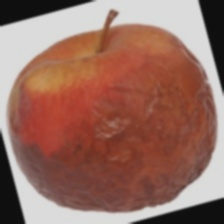apple: (12, 36, 179, 171)
